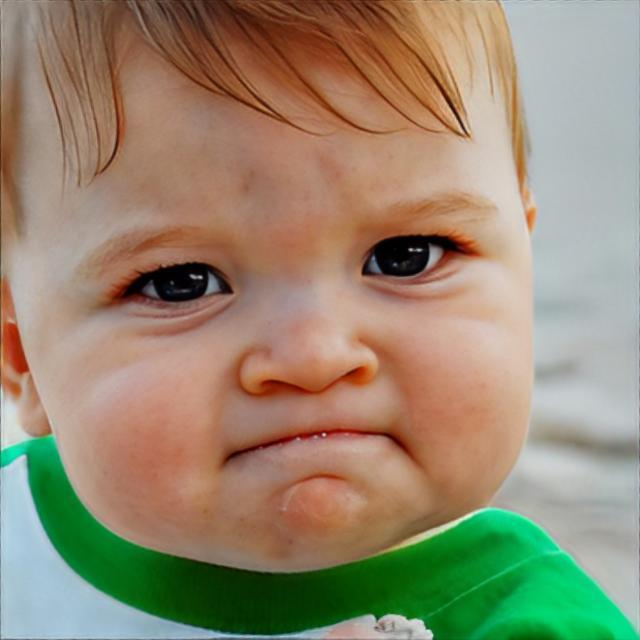anger: (13, 34, 540, 580)
